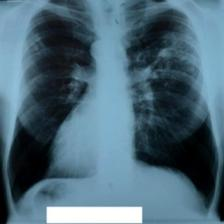tuberculosis: (2, 0, 222, 210)
